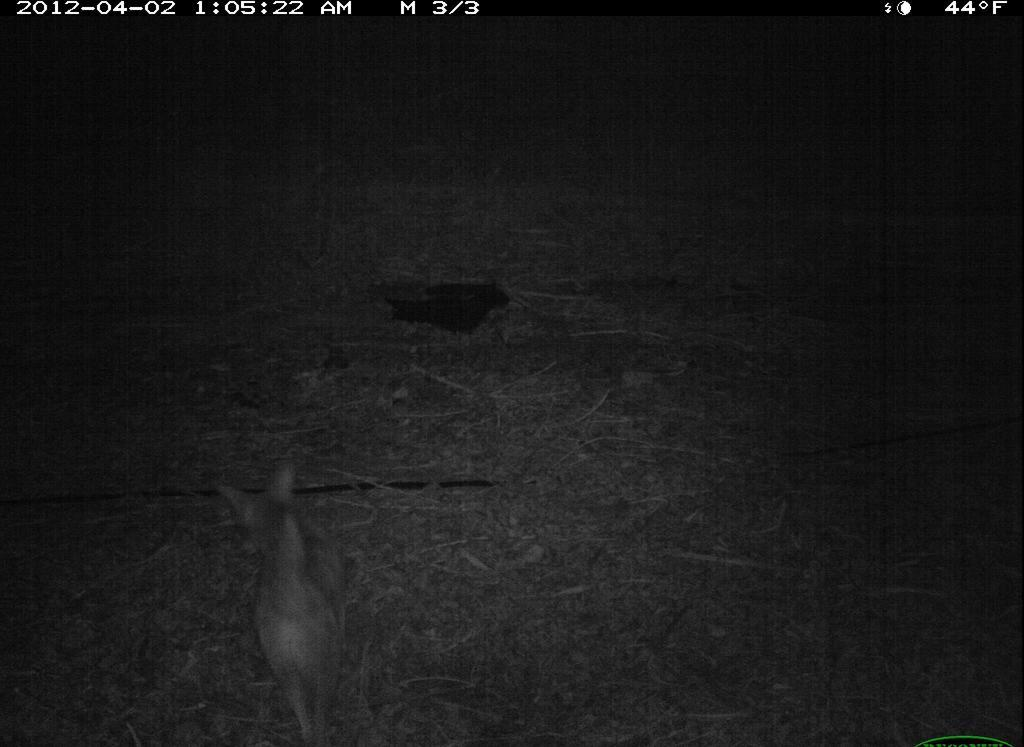coyote: (208, 454, 367, 744)
